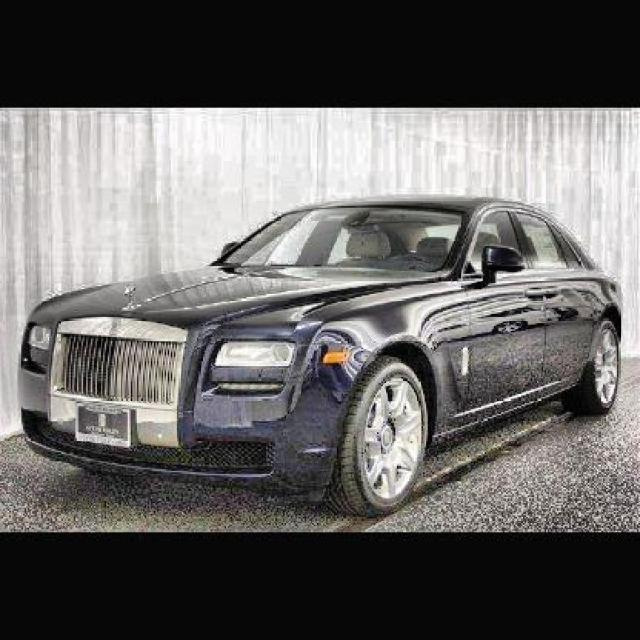black: (1, 198, 615, 466)
